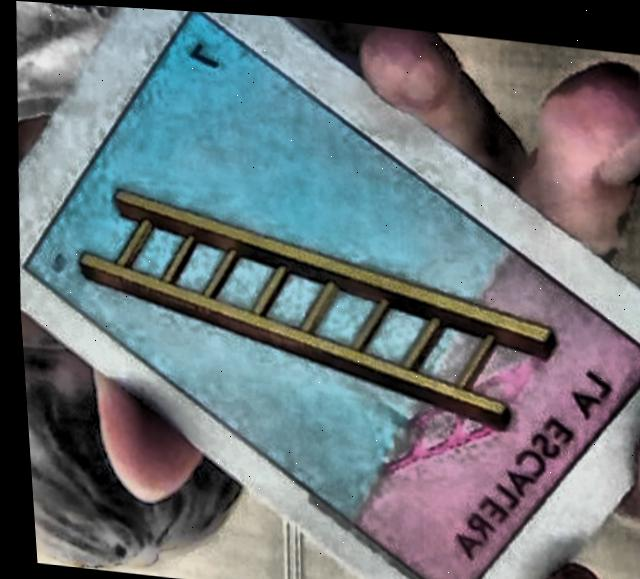La Escalera: (22, 9, 640, 579)
